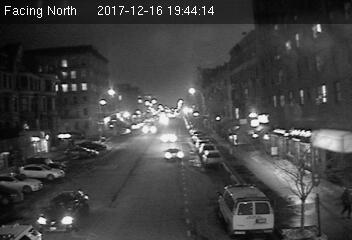car: (34, 187, 90, 232), (201, 150, 224, 168), (164, 148, 185, 161)
police: (214, 182, 276, 236)
